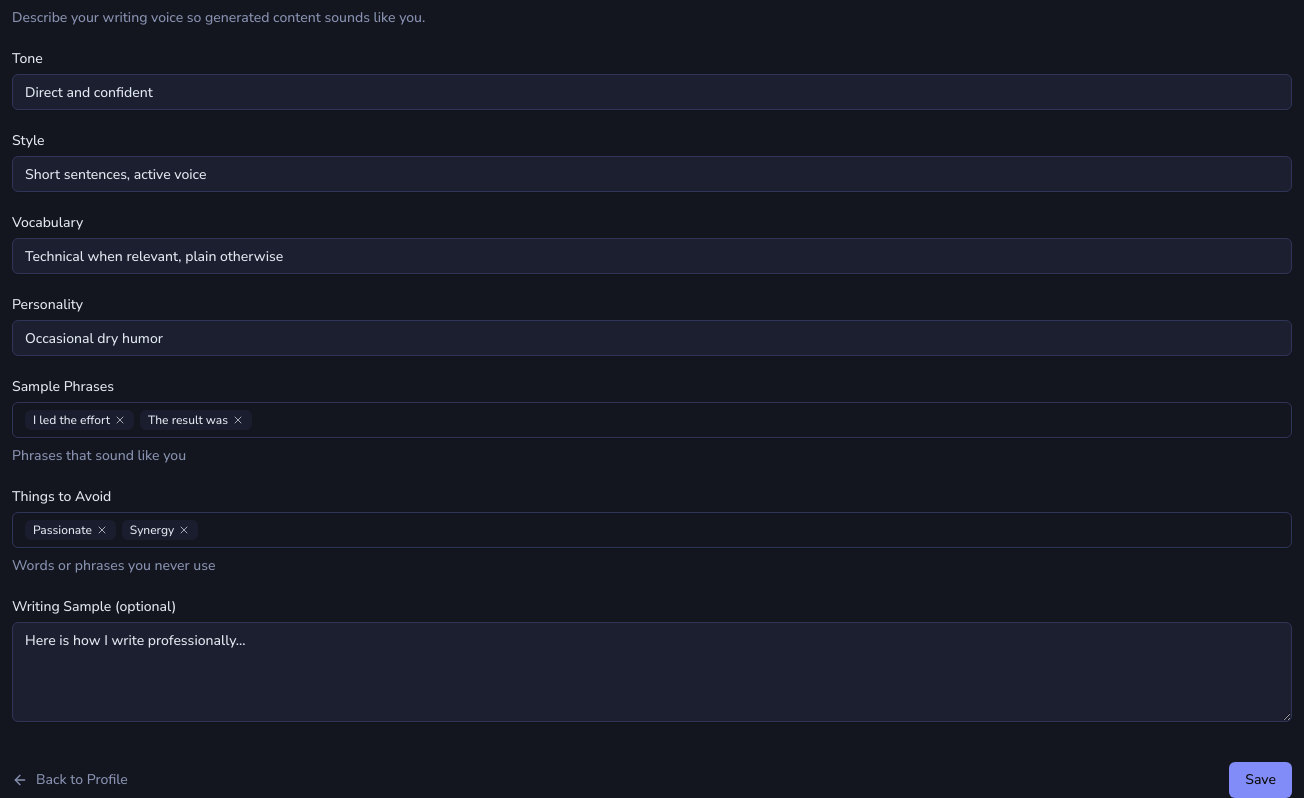
VoiceProfileEditor › submission › shows success message after save
(page scrolled)
Expected: the field labelled "Tone" holds "Direct and confident", [12,74,1292,110]
Click the button "Save": {"x": 1261, "y": 780} [1229,762,1292,797]
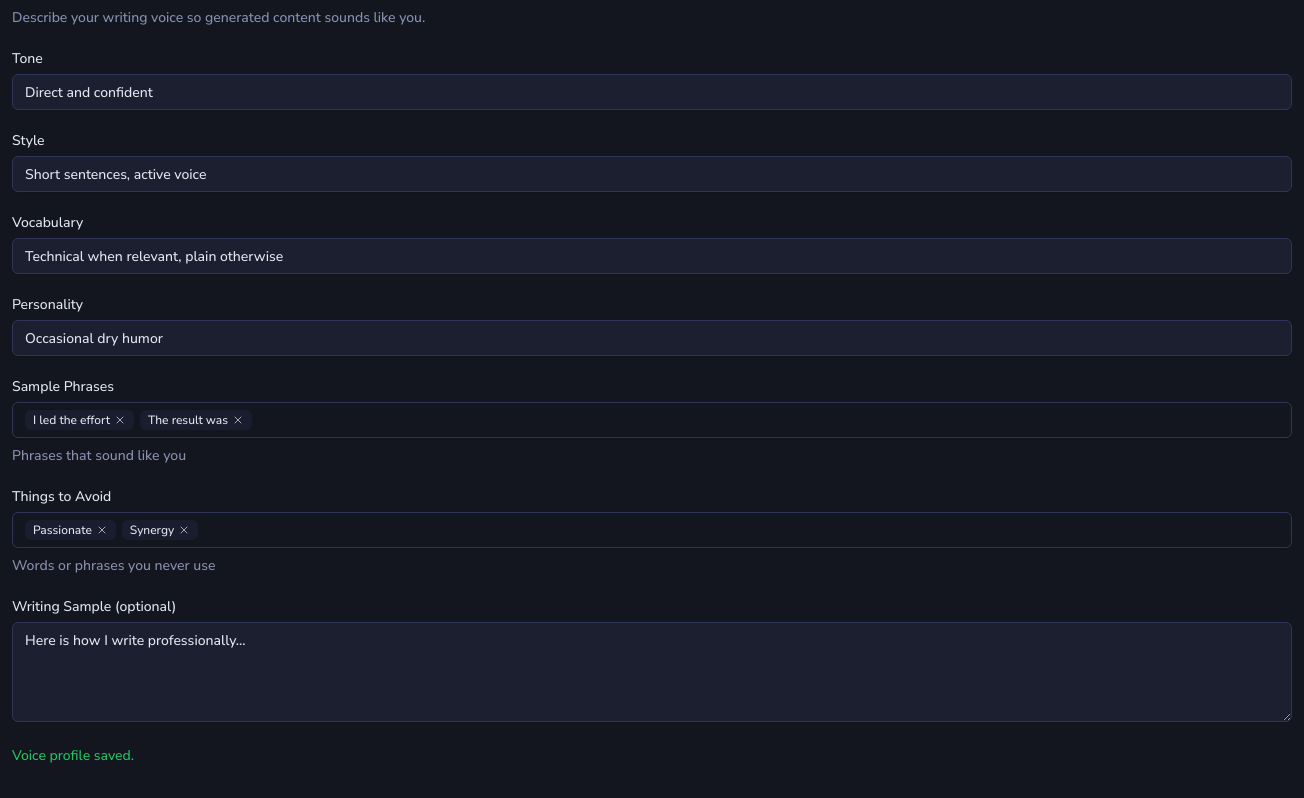
Now the text "Voice profile saved." is shown, box [12,746,134,765]
